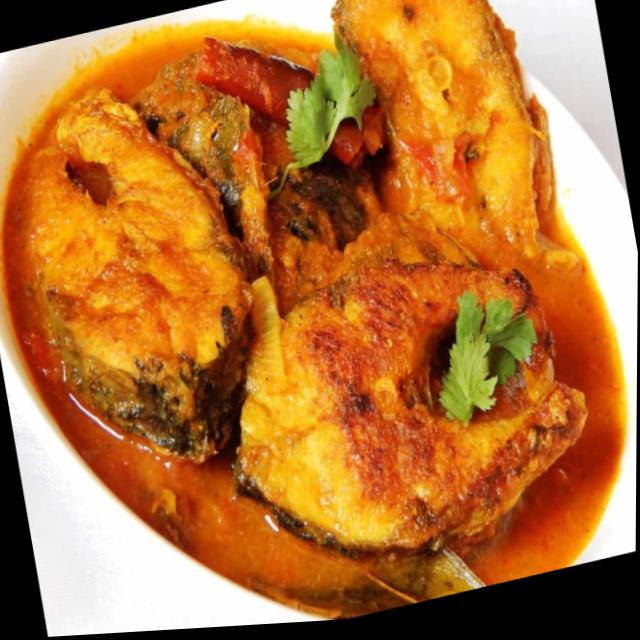FISH CURRY: (0, 0, 623, 616)
